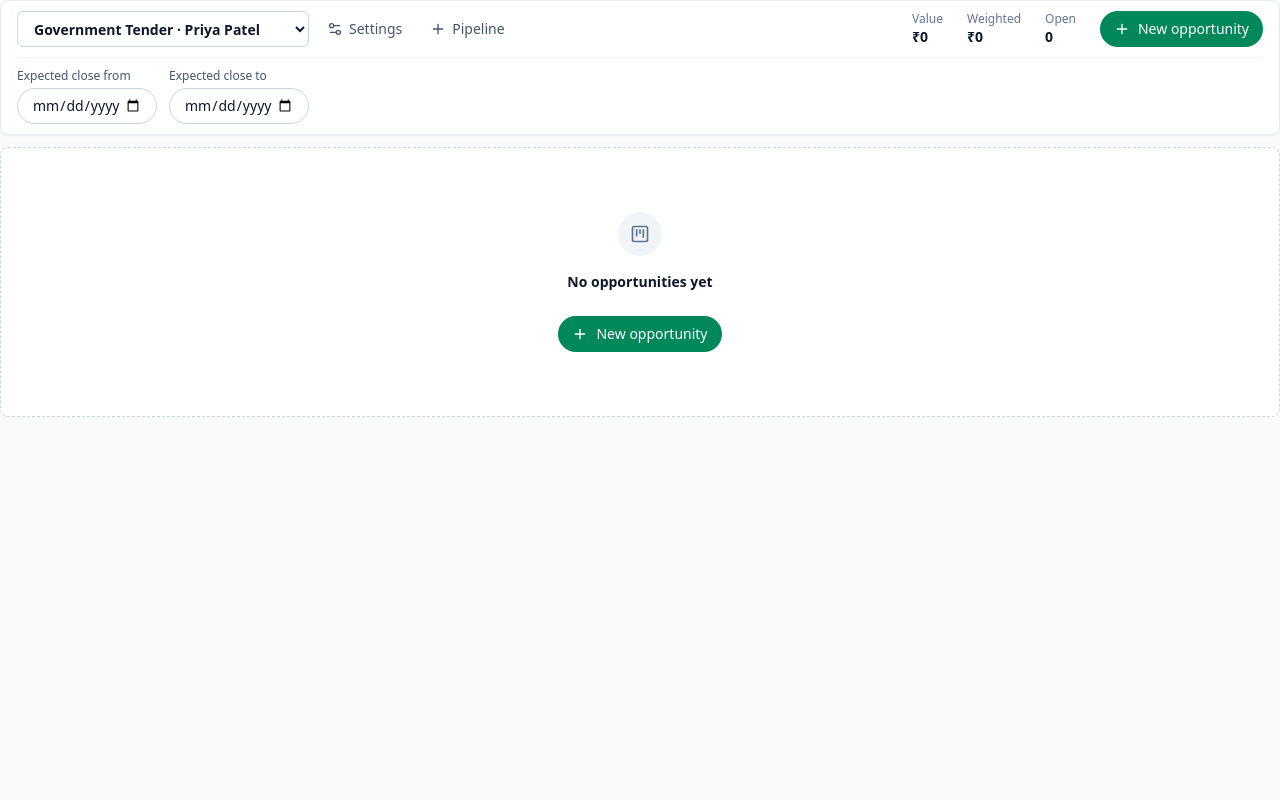
Scenario: choosing and configuring pipelines › shows the server's reasons next to the stages and never loses the edit
Select "Government Tender · Priya Patel" in the dropdown named "Pipeline" at (163, 29), box [17,11,309,47]
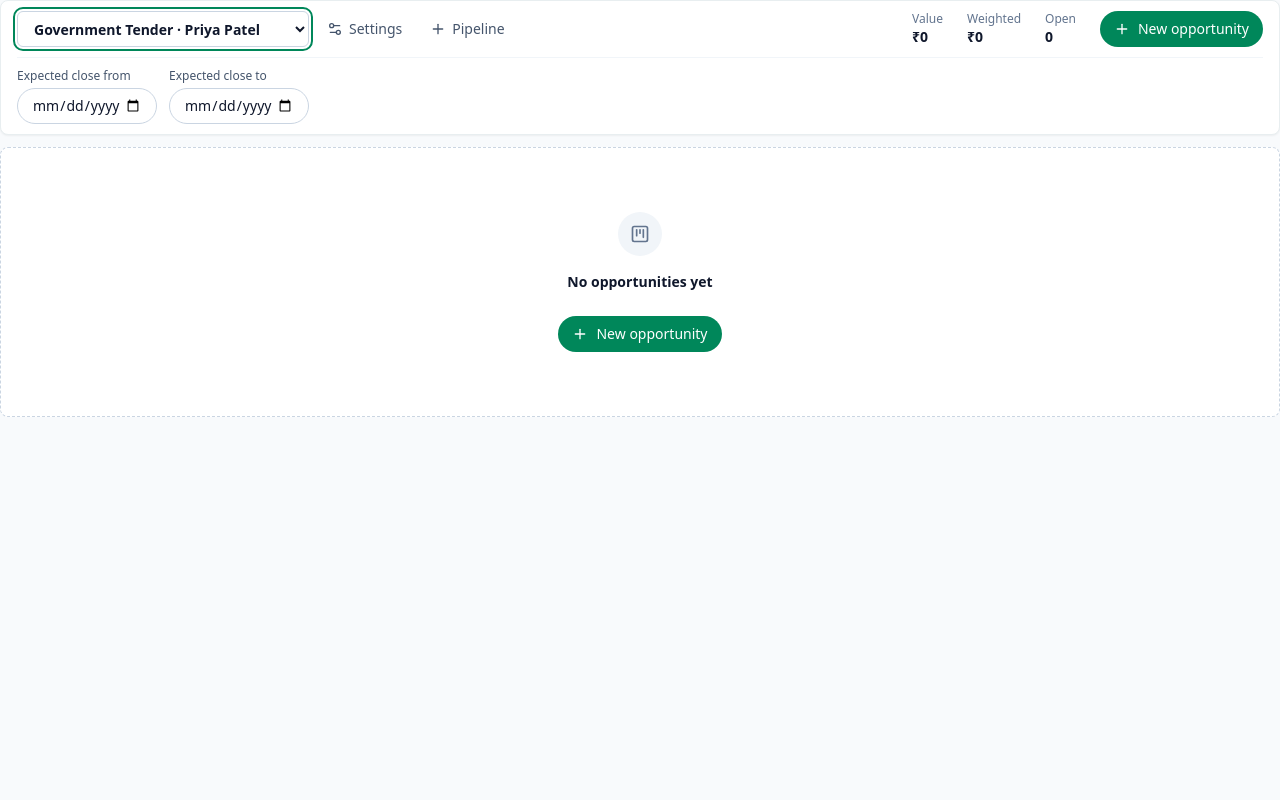
Click the button with aria-label "Pipeline settings".
click(365, 29)  # box [317,13,412,45]
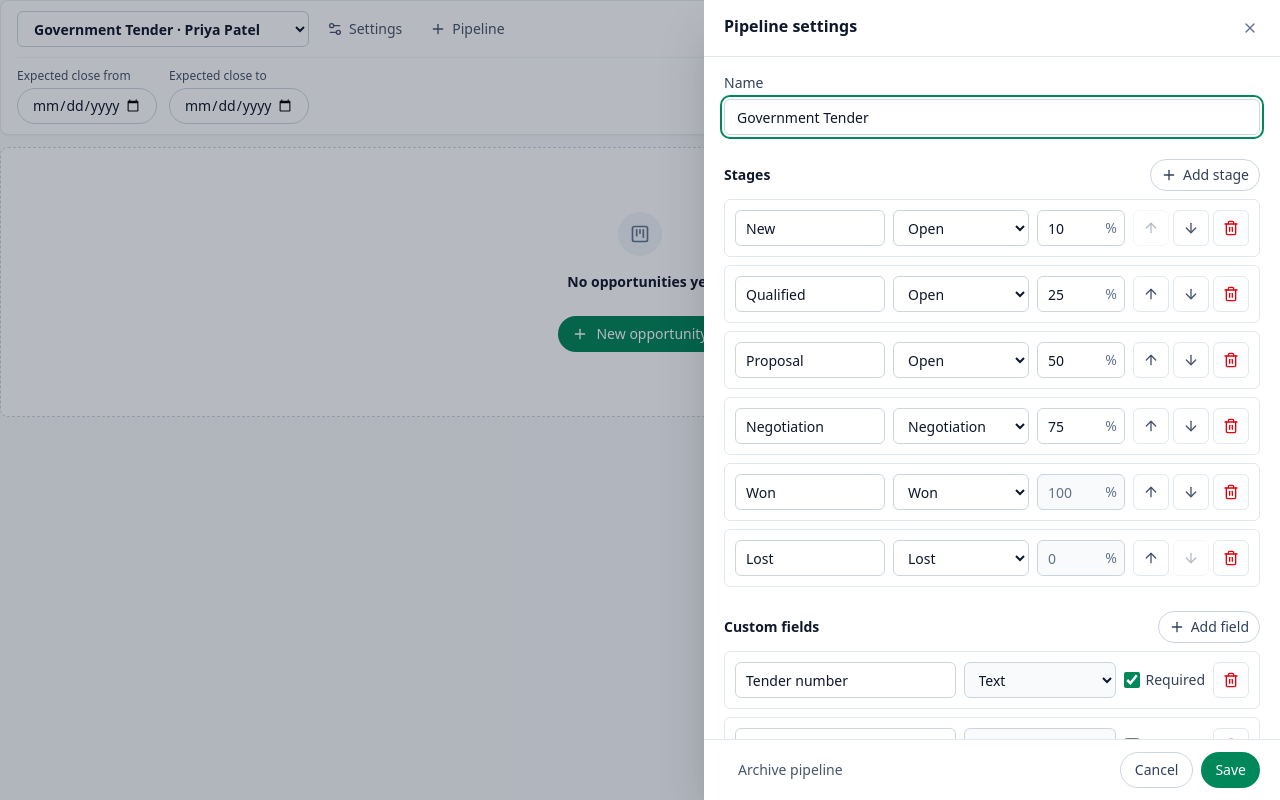
Click the button named "Remove Proposal".
click(1231, 360)  # box [1213,342,1249,378]
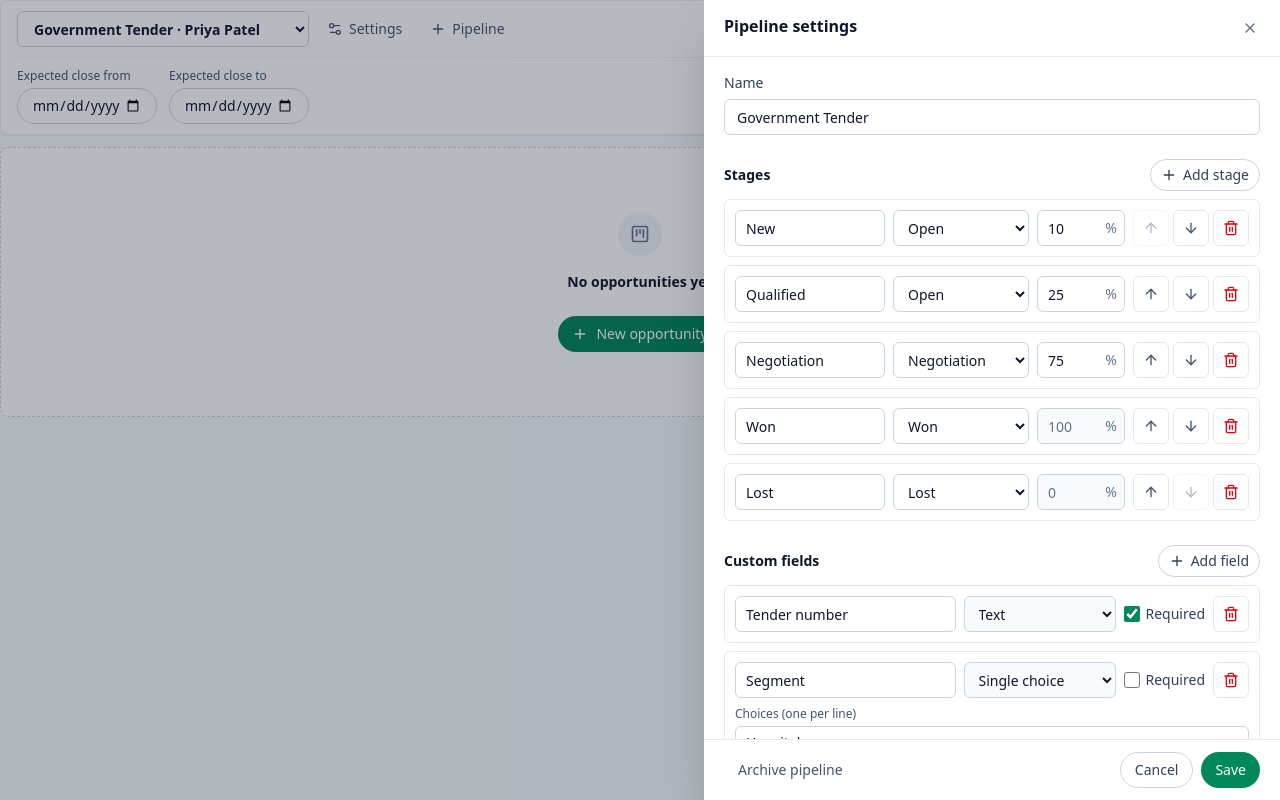
Click the button "Save".
click(1231, 770)  # box [1201,752,1260,788]
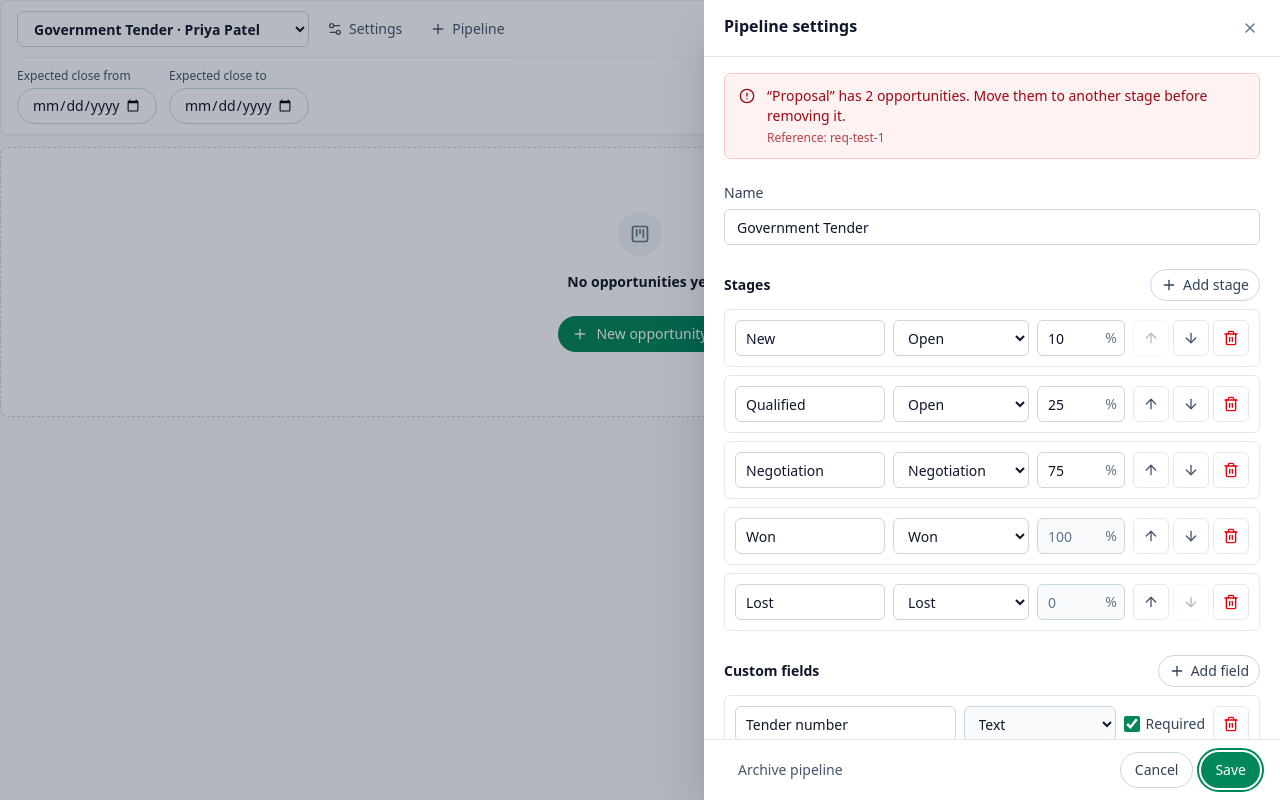
expect the field labelled "Proposal type" is not shown: met
expect the text "has 2 opportunities" is shown: met, box [767,86,1208,125]
